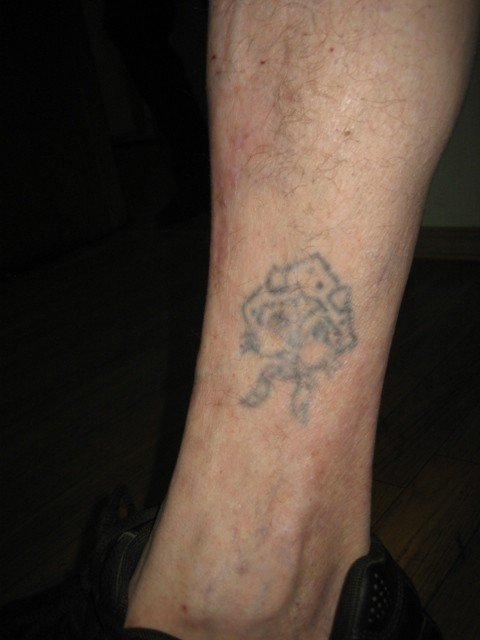tatu8_kot: (231, 235, 369, 419), (231, 237, 367, 420), (232, 236, 367, 420)
